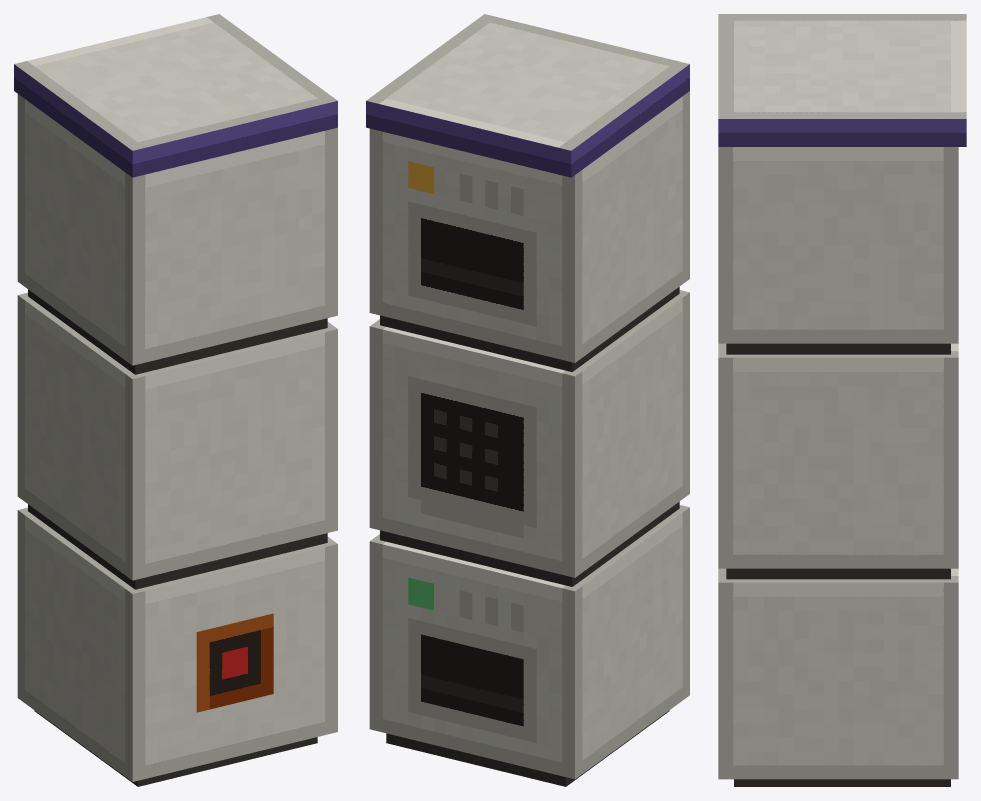
The model's file is era5_data_processor_double_sided.obj.
3 views of the same model, side by side, from view 1: azimuth 30°, elevation 25°; view 2: azimuth 150°, elevation 25°; view 3: azimuth 270°, elevation 25° (orthographic). The views are drawn at different scales.
Visible parts, largest first — view 1: era5_data_processor; view 2: era5_data_processor; view 3: era5_data_processor.
Part boxes in pixels (x1,y1,x2,y2): era5_data_processor: (14,14,337,786); era5_data_processor: (366,14,689,786); era5_data_processor: (718,14,966,786).
Size of the model in its own units: 1 by 3 by 1.
